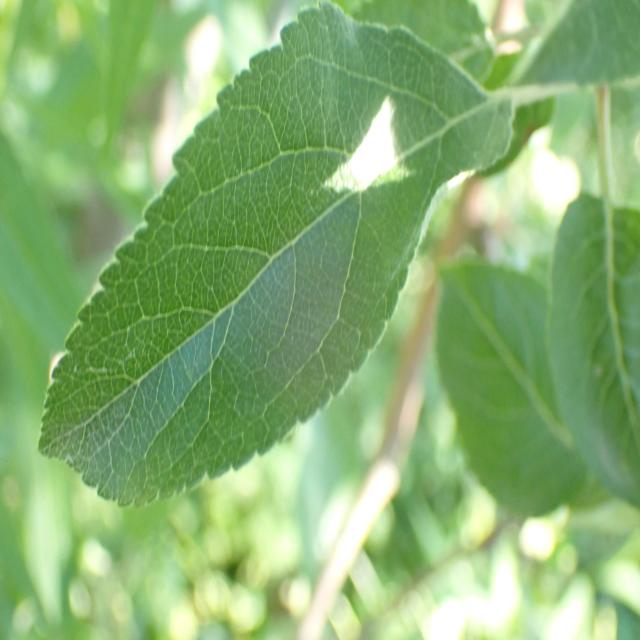healthy: (38, 1, 515, 510), (435, 252, 593, 518), (548, 190, 640, 508)
